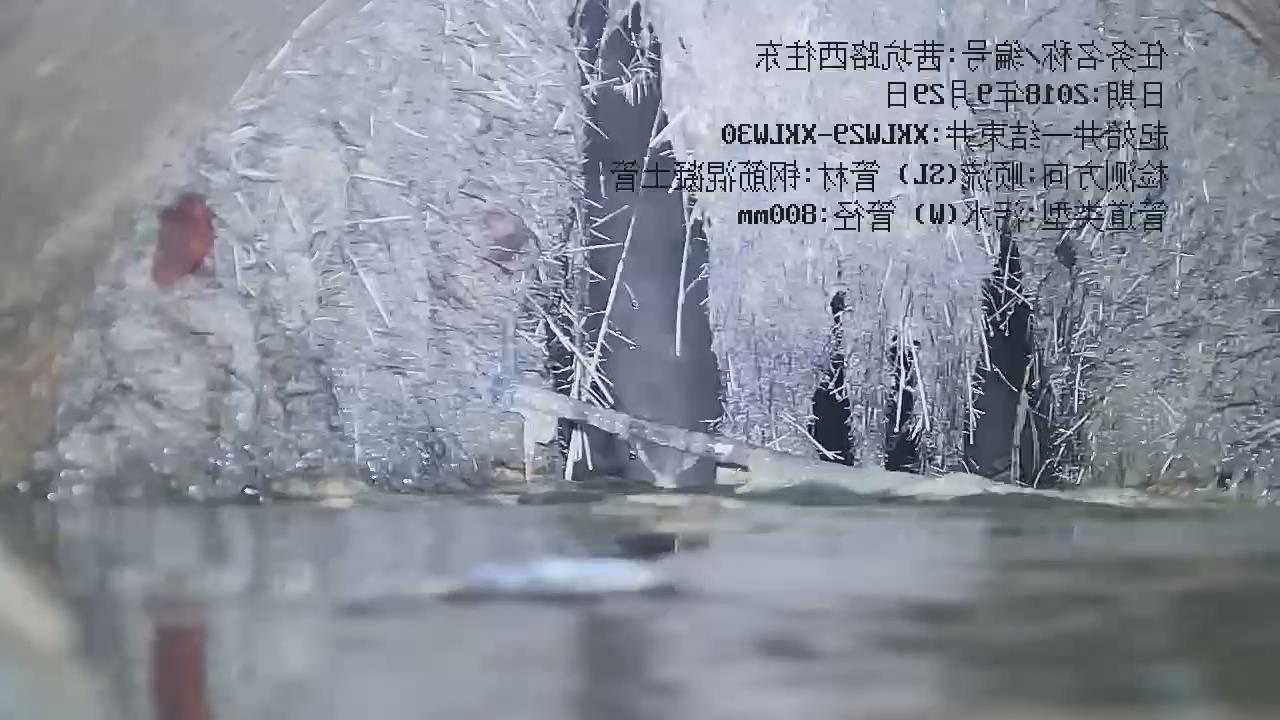SG: (40, 0, 1280, 502)
